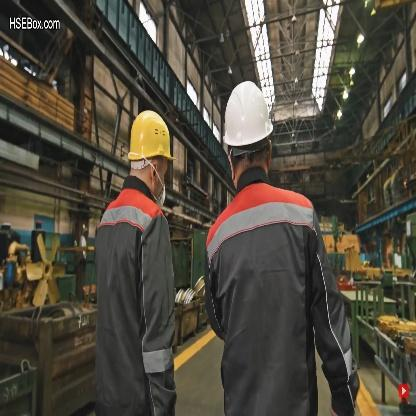helmet: (211, 74, 283, 176), (121, 101, 173, 204)
